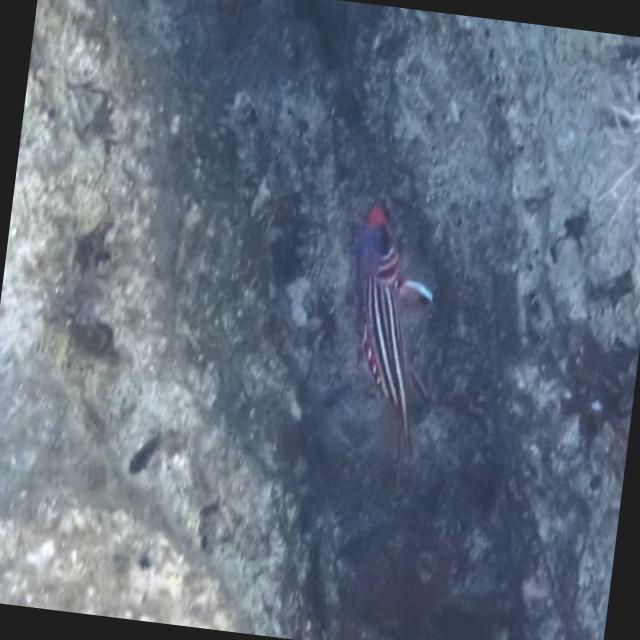Asker Baligi: (319, 188, 454, 494)
